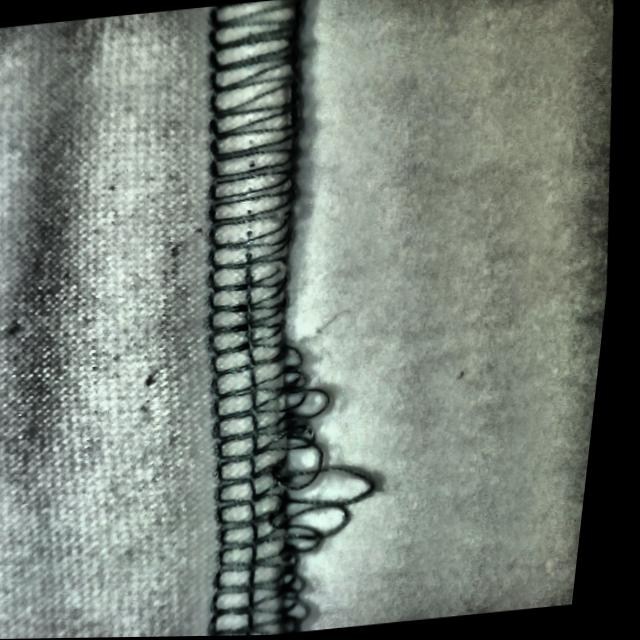Stitch: (187, 333, 413, 637)
